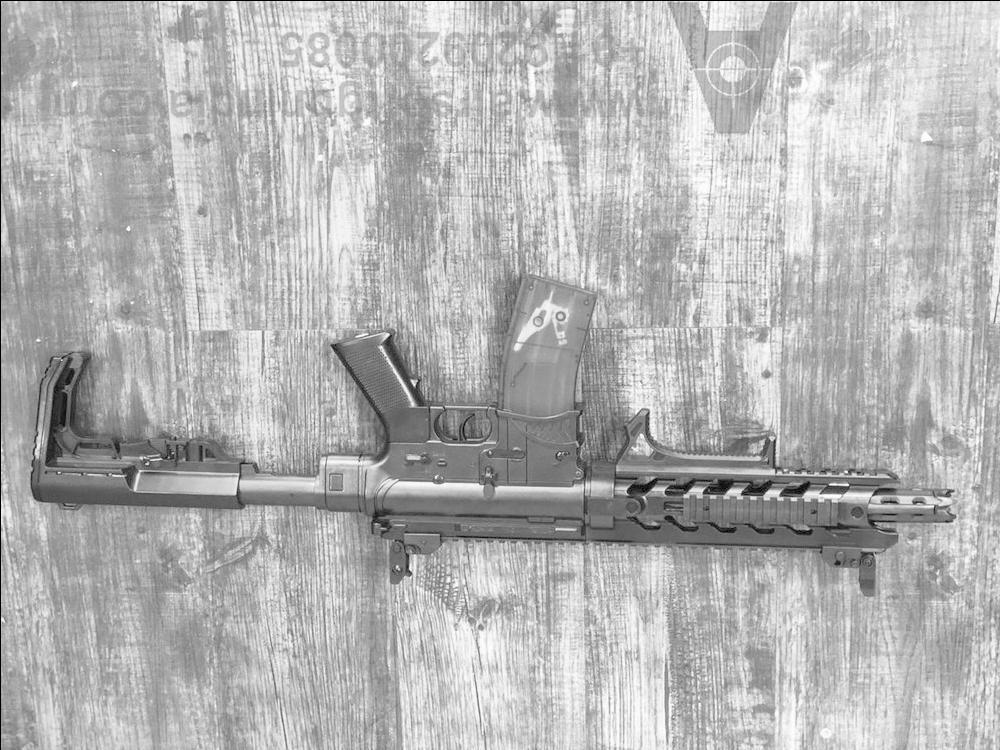gun: (16, 256, 958, 604)
